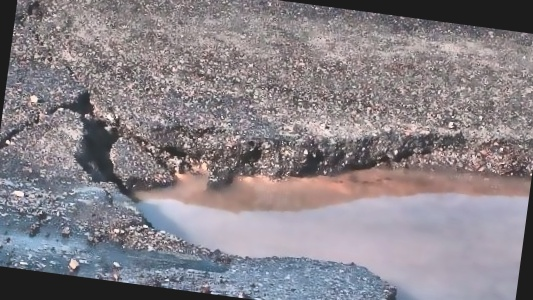pothole: (48, 74, 533, 300)
